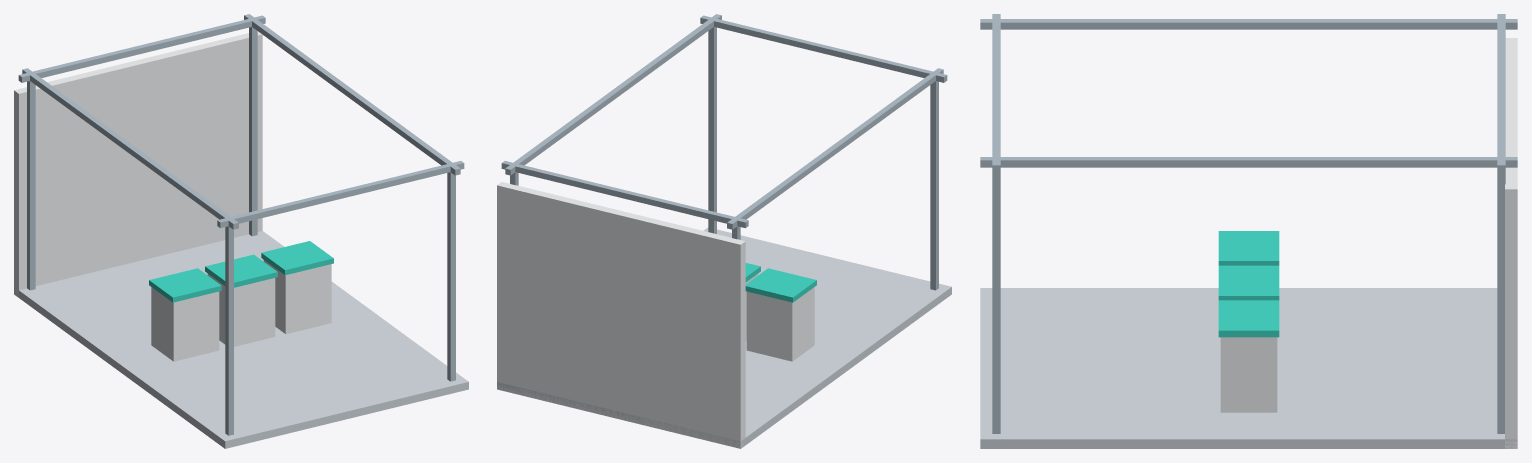
3 views of the same model, side by side, from view 1: azimuth 30°, elevation 25°; view 2: azimuth 150°, elevation 25°; view 3: azimuth 270°, elevation 25° (orthographic). The views are drawn at different scales.
Parts seen in each view (by area): view 1: Exhibition Booth Concept; view 2: Exhibition Booth Concept; view 3: Exhibition Booth Concept.
Boxes of the visible parts, x1,y1,x2,y2 form: Exhibition Booth Concept: (14, 14, 468, 448); Exhibition Booth Concept: (497, 14, 951, 448); Exhibition Booth Concept: (980, 14, 1517, 448).
Size of the model in its own units: 4 by 3.49 by 6.
